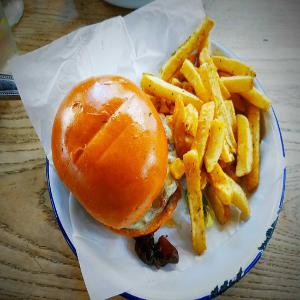cheeseburger_475cal: (47, 80, 181, 237)
fries_350cal: (185, 26, 270, 259)
